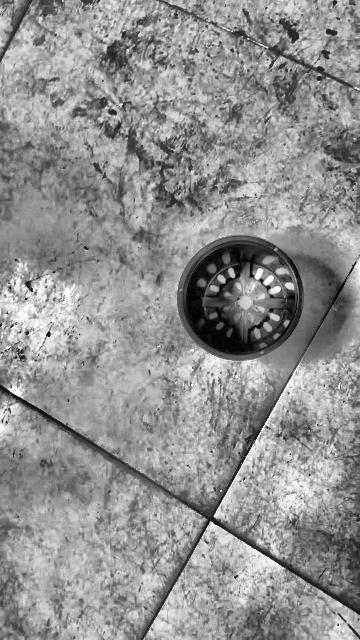pot: (176, 235, 305, 359)
